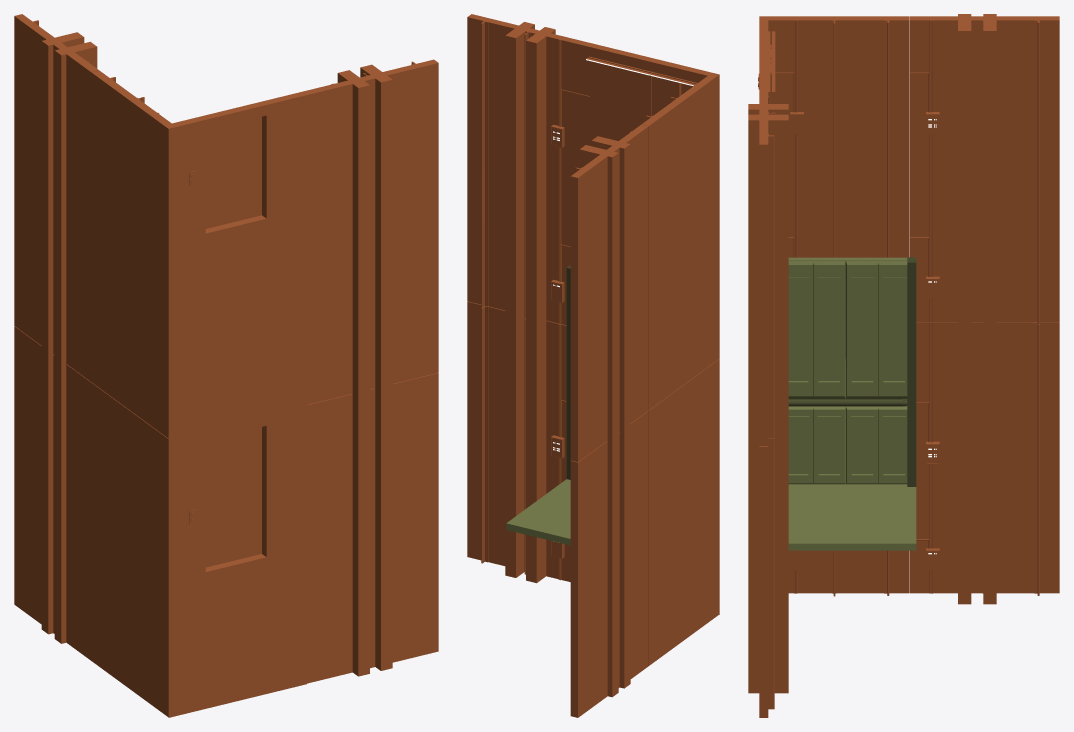
The model's file is Elevator.glb.
The picture shows the model from 3 angles, left to right: view 1: azimuth 30°, elevation 25°; view 2: azimuth 150°, elevation 25°; view 3: azimuth 270°, elevation 25°; orthographic projection. The views are drawn at different scales.
Parts seen in each view (by area): view 1: Structure.001; view 2: Structure.001, Cube.001; view 3: Structure.001, Cube.001.
Part boxes in pixels (x1,y1,x2,y2): Structure.001: [14, 14, 438, 717]; Structure.001: [467, 14, 719, 717]; Cube.001: [506, 265, 570, 545]; Structure.001: [748, 14, 1059, 717]; Cube.001: [788, 257, 916, 550].
Bounding box in the file's own units: 6.32 × 12.93 × 6.36.
